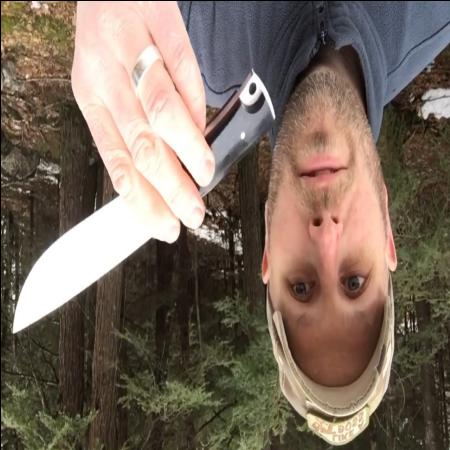long weapon: (9, 105, 204, 336)
